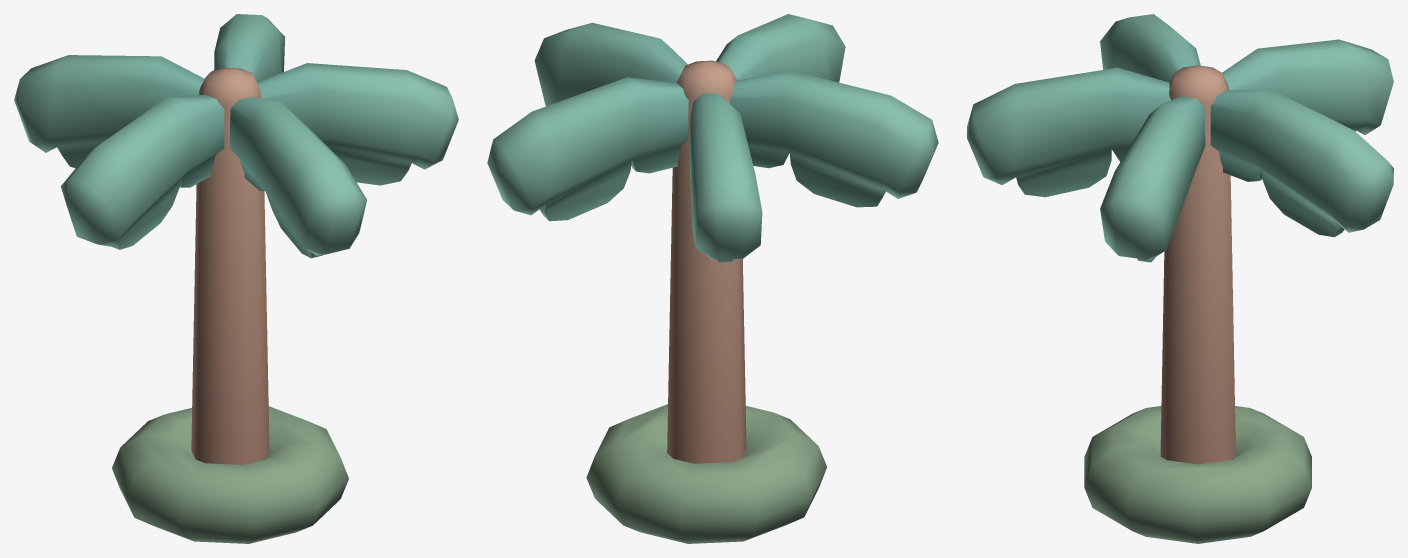
File: pool-palm-tree.glb
The picture shows the model from 3 angles, left to right: view 1: azimuth 30°, elevation 25°; view 2: azimuth 150°, elevation 25°; view 3: azimuth 270°, elevation 25°; orthographic projection.
Parts seen in each view (by area): view 1: pool-palm-tree; view 2: pool-palm-tree; view 3: pool-palm-tree.
Boxes of the visible parts, <box> form: pool-palm-tree: <box>14,14,458,543</box>; pool-palm-tree: <box>487,14,938,543</box>; pool-palm-tree: <box>967,14,1393,543</box>.
Size of the model in its own units: 0.9407 by 1.01 by 0.8957.
